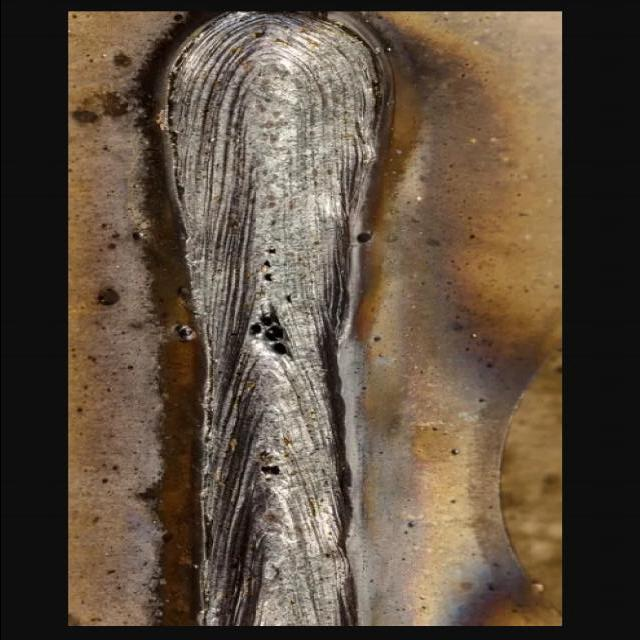defect: (243, 300, 295, 361), (257, 245, 278, 285), (256, 462, 281, 484), (354, 231, 373, 245), (284, 293, 295, 305)
